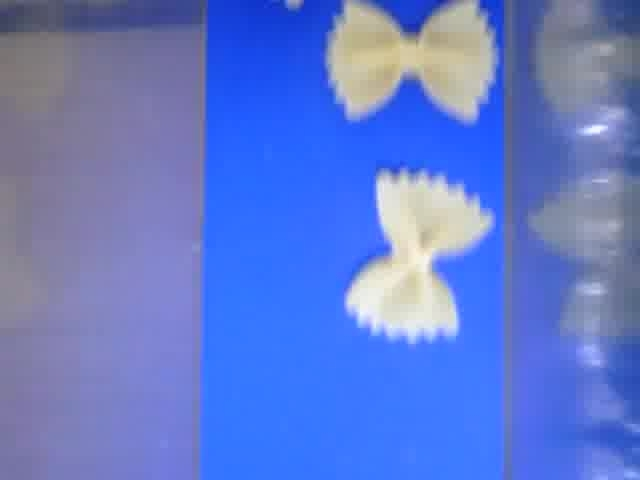farfalle: (345, 166, 492, 341), (328, 1, 497, 125)
